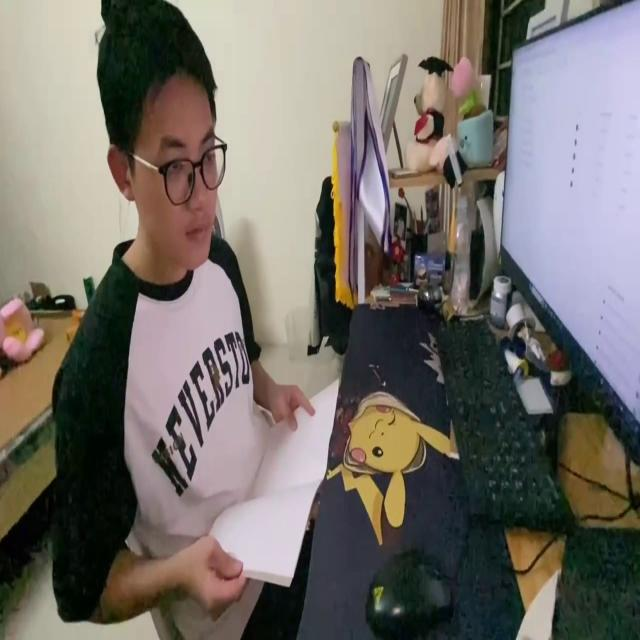book: (206, 376, 340, 595)
laptop: (499, 0, 640, 475)
student: (52, 0, 318, 640)
